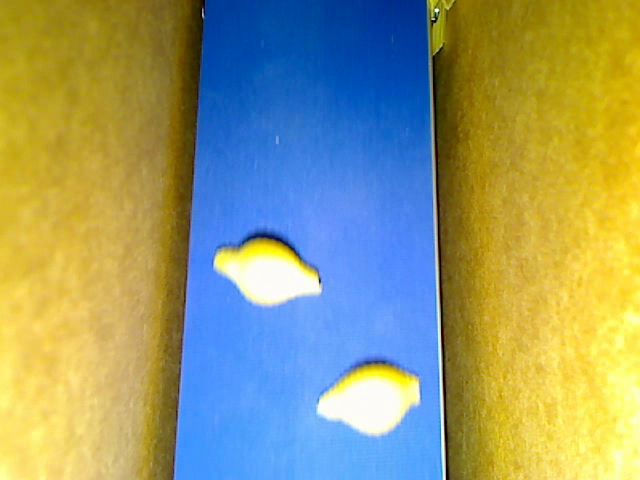penne: (429, 1, 447, 57), (439, 1, 457, 16)
shell: (211, 233, 325, 307), (316, 360, 420, 435)
